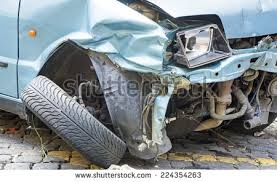Broken-glass: (165, 18, 234, 67)
Dent: (88, 18, 157, 68)
Smashed: (27, 1, 277, 147)
